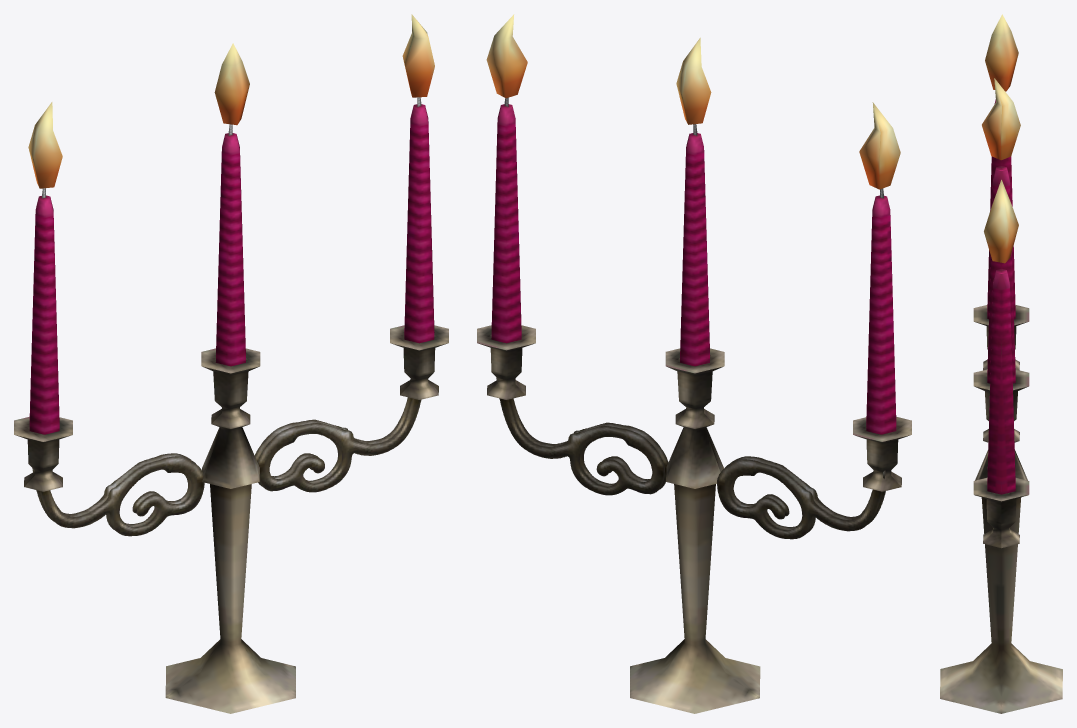
File: furni_0200304.FBX
3 renders of one model, left to right at view 1: azimuth 30°, elevation 25°; view 2: azimuth 150°, elevation 25°; view 3: azimuth 270°, elevation 25°, orthographic. The views are drawn at different scales.
Parts seen in each view (by area): view 1: furni_0200304; view 2: furni_0200304; view 3: furni_0200304.
Boxes of the visible parts, x1,y1,x2,y2 form: furni_0200304: (14, 14, 448, 713); furni_0200304: (477, 14, 911, 713); furni_0200304: (940, 14, 1062, 713).
Size of the model in its own units: 47.19 by 66.65 by 12.26.
Materials: 1 (1 with a texture image).
